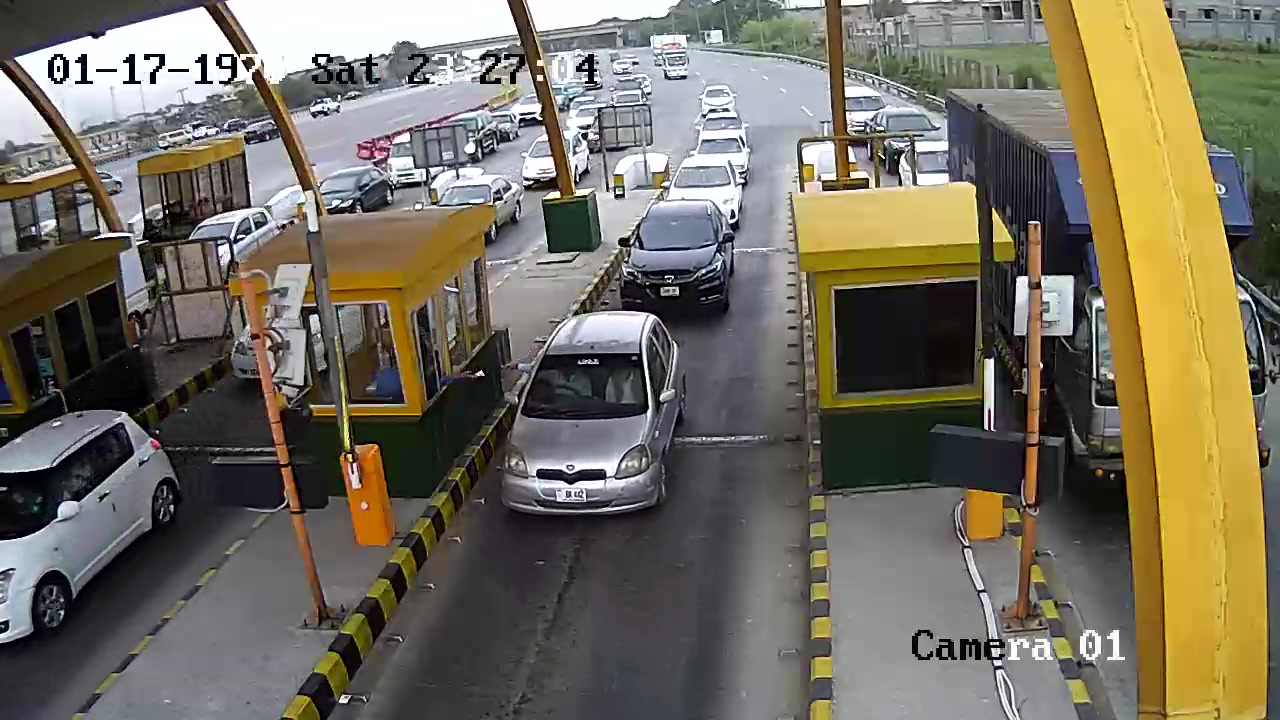F1: (489, 307, 693, 534), (604, 194, 742, 323)
